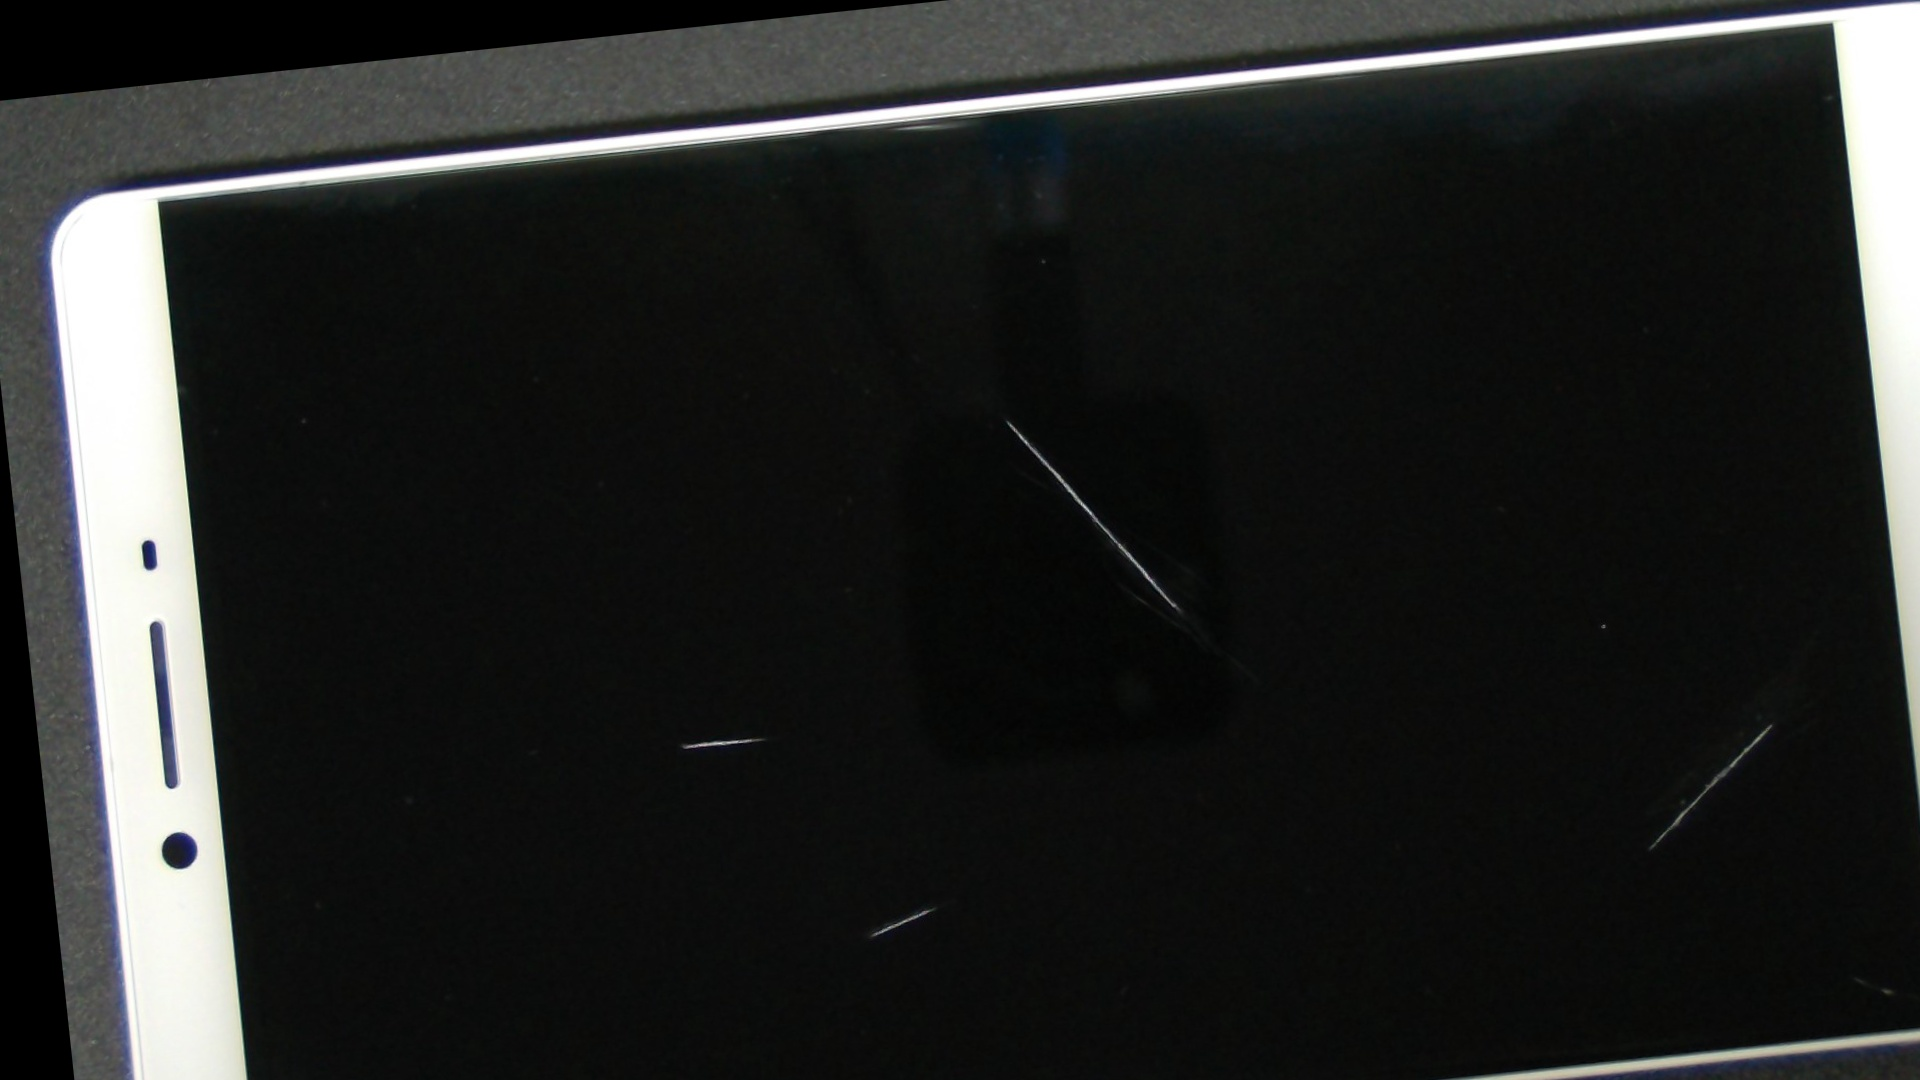oil: (870, 286, 1920, 1080), (454, 413, 1398, 1080), (491, 156, 1527, 683), (326, 355, 1035, 1080)
